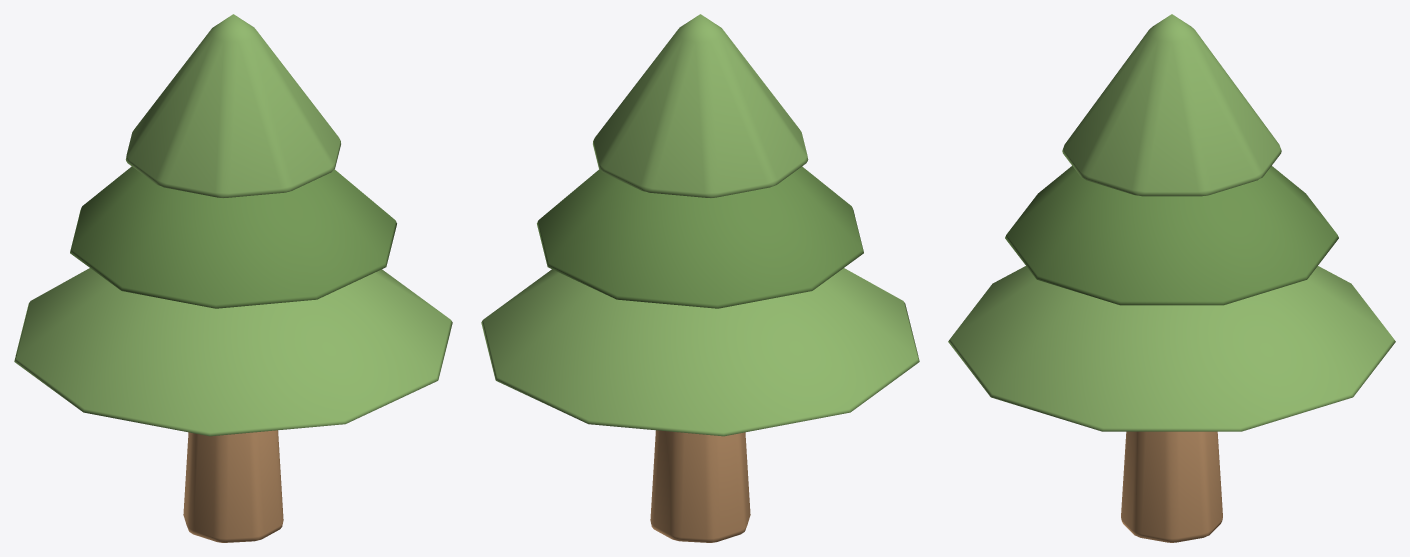
Rendered from pine_tree.glb.
3 views of the same model, side by side, from view 1: azimuth 30°, elevation 25°; view 2: azimuth 150°, elevation 25°; view 3: azimuth 270°, elevation 25° (orthographic).
Parts seen in each view (by area): view 1: pine_tree; view 2: pine_tree; view 3: pine_tree.
Boxes of the visible parts, x1,y1,x2,y2 form: pine_tree: [14, 14, 452, 542]; pine_tree: [481, 14, 919, 542]; pine_tree: [948, 14, 1395, 542].
Bounding box in the file's own units: 1.12 × 1.48 × 1.18.
